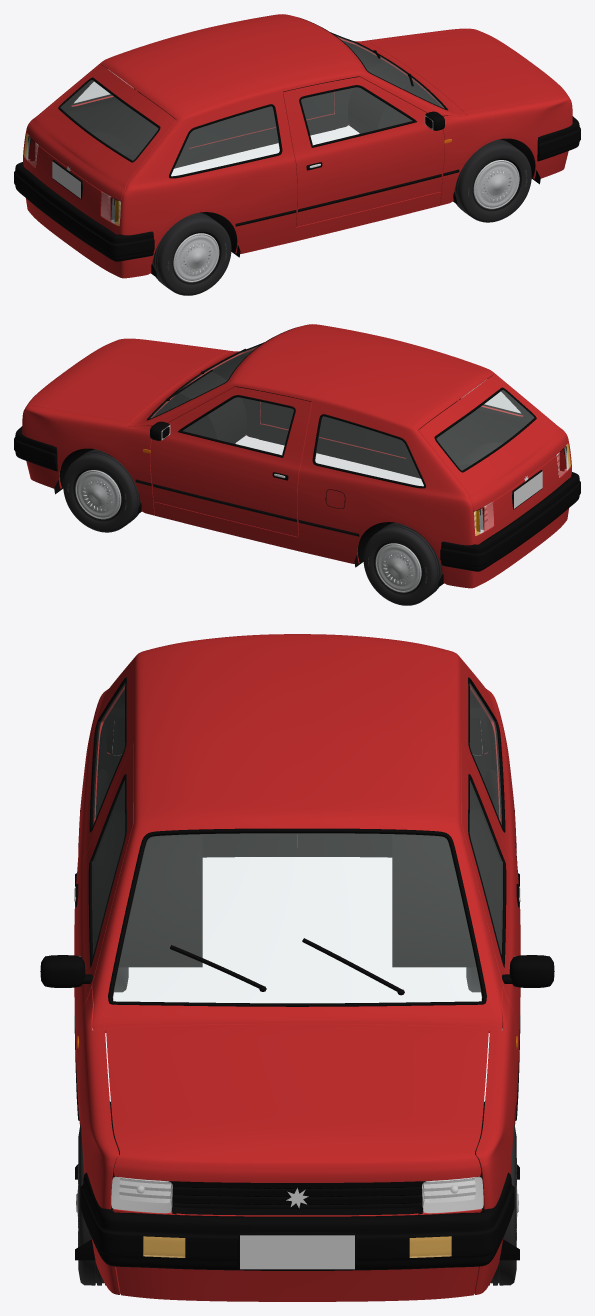
Rendered from caipora-molde.glb.
3 views of the same model, one above another, from view 1: azimuth 30°, elevation 25°; view 2: azimuth 150°, elevation 25°; view 3: azimuth 270°, elevation 25° (orthographic). The views are drawn at different scales.
Visible parts, largest first — view 1: body, door_fr, hood, trunk, fender_front_right, glass_door_rr, glass_door_fr, glass_rear, bumper_rear, wheel_rr_tire, wheel_fr_tire, door_fl (+10 smaller); view 2: body, door_fl, hood, trunk, fender_front_left, glass_door_rl, glass_door_fl, glass_rear, bumper_rear, wheel_rl_tire, wheel_fl_tire, door_fr (+10 smaller); view 3: body, glass_windshield, hood, bumper_front, grille, fender_front_left, fender_front_right, plate_front, door_fl, door_fr, glass_door_fl, glass_door_fr (+10 smaller).
Part boxes in pixels (x1,y1,x2,y2): body: (23, 14, 540, 278); door_fr: (282, 77, 444, 226); hood: (369, 30, 569, 112); trunk: (27, 64, 176, 201); fender_front_right: (440, 95, 572, 205); glass_door_rr: (169, 104, 282, 178); glass_door_fr: (299, 85, 416, 147); glass_rear: (58, 77, 160, 162); bumper_rear: (14, 162, 154, 261); wheel_rr_tire: (152, 212, 231, 295); wheel_fr_tire: (454, 139, 531, 222); door_fl: (188, 81, 334, 147); body: (54, 324, 571, 588); door_fl: (150, 387, 312, 536); hood: (25, 340, 225, 422); trunk: (418, 374, 567, 511); fender_front_left: (22, 405, 154, 515); glass_door_rl: (312, 414, 425, 488); glass_door_fl: (178, 395, 295, 457); glass_rear: (434, 387, 536, 472); bumper_rear: (440, 472, 580, 571); wheel_rl_tire: (363, 522, 442, 605); wheel_fl_tire: (63, 449, 140, 532); door_fr: (260, 391, 406, 457); body: (75, 634, 519, 1301); glass_windshield: (108, 828, 486, 1006); hood: (106, 1024, 488, 1182); bumper_front: (80, 1172, 514, 1270); grille: (171, 1181, 423, 1215); fender_front_left: (474, 986, 518, 1294); fender_front_right: (76, 986, 120, 1294); plate_front: (237, 1232, 357, 1270); door_fl: (461, 743, 520, 1099); door_fr: (74, 743, 133, 1099); glass_door_fl: (468, 774, 506, 967); glass_door_fr: (88, 774, 126, 967).
Bounding box in the file's own units: 3.87 × 1.39 × 1.79.
Materials: 38 (1 with a texture image).
